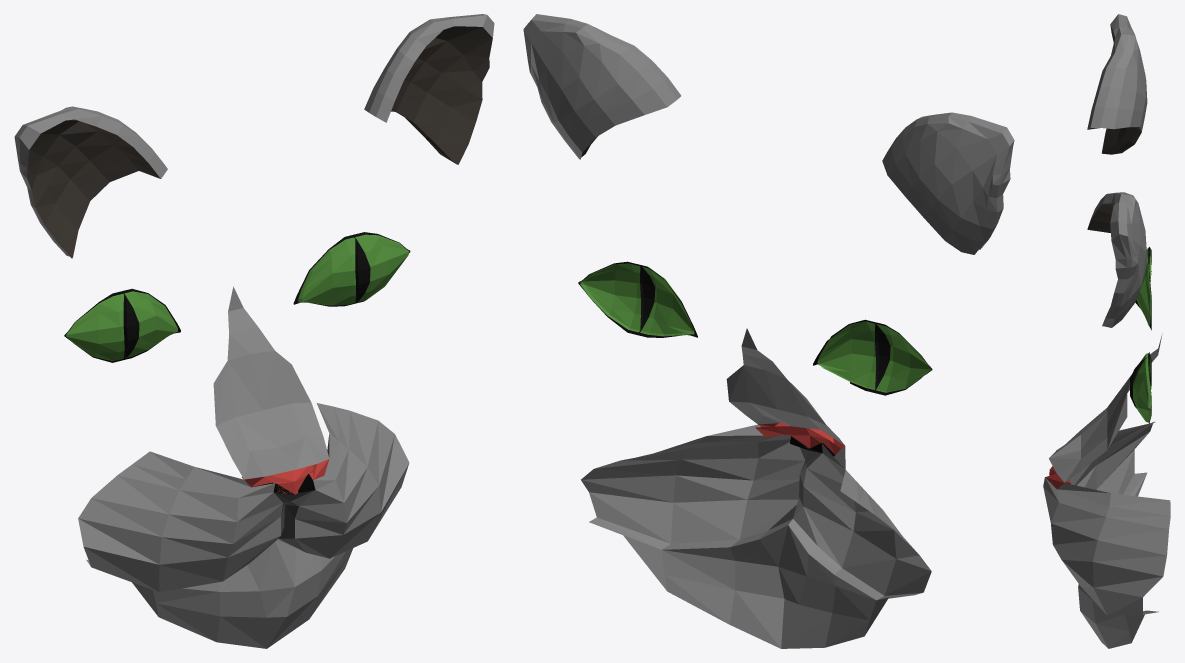
The picture shows the model from 3 angles, left to right: view 1: azimuth 30°, elevation 25°; view 2: azimuth 150°, elevation 25°; view 3: azimuth 270°, elevation 25°; orthographic projection. The views are drawn at different scales.
Visible parts, largest first — view 1: eyeR2; view 2: eyeR2; view 3: eyeR2.
Boxes of the visible parts, box(x1,y1,x2,y2) form: eyeR2: box(14, 14, 494, 648); eyeR2: box(523, 14, 1014, 648); eyeR2: box(1043, 14, 1170, 648).
Bounding box in the file's own units: 15.71 × 18.18 × 3.98.
